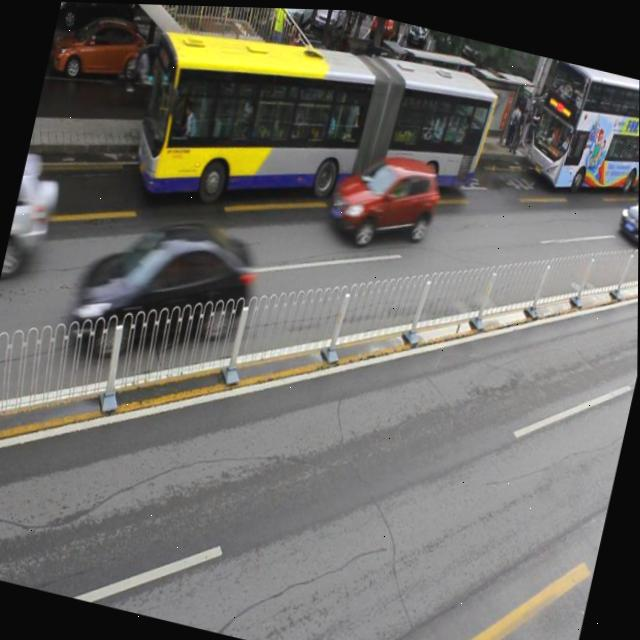car: (66, 199, 257, 383), (325, 137, 443, 258), (45, 2, 155, 96), (150, 21, 246, 106), (254, 21, 336, 104), (351, 46, 422, 114), (613, 177, 639, 251)
van: (126, 3, 498, 264), (524, 53, 640, 208)
